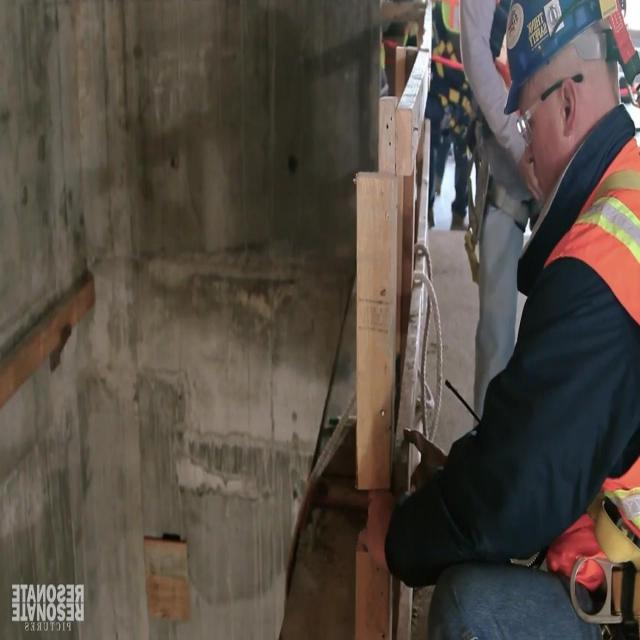Reflective-Jacket: (541, 126, 640, 607)
Safety-Helmet: (488, 0, 632, 86)
